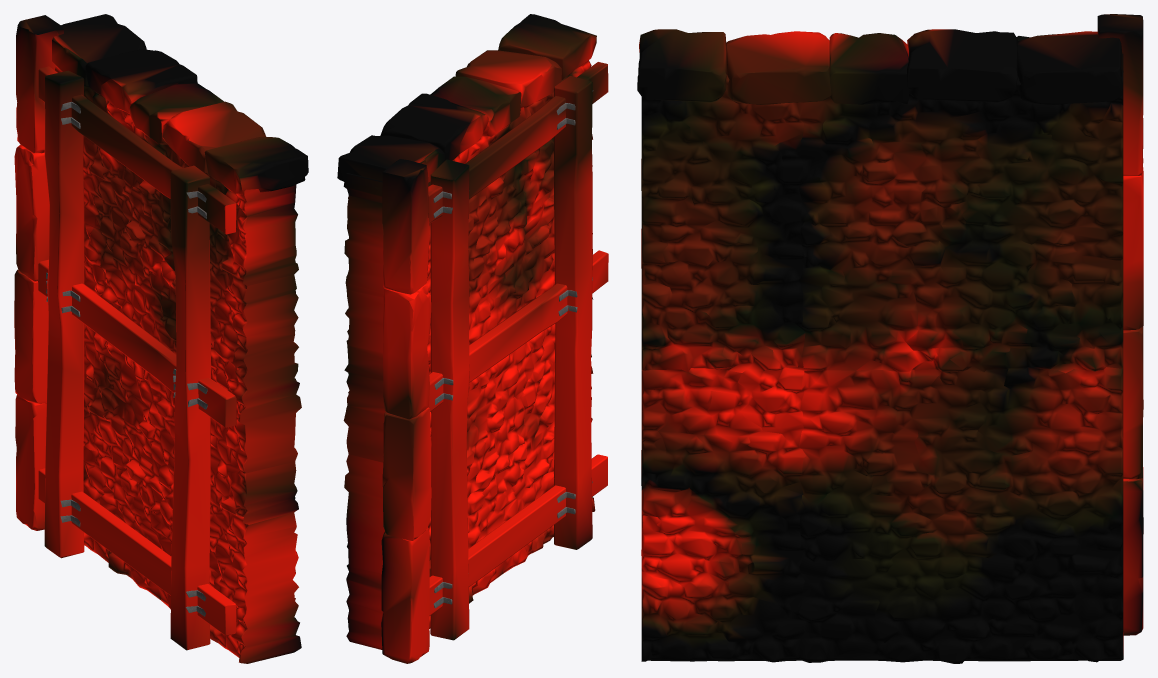
The model's file is SM_DockWall_6x8_01.fbx.
3 views of the same model, side by side, from view 1: azimuth 30°, elevation 25°; view 2: azimuth 150°, elevation 25°; view 3: azimuth 270°, elevation 25° (orthographic). The views are drawn at different scales.
Parts seen in each view (by area): view 1: SM_DockWall_6x8_01_LOD0; view 2: SM_DockWall_6x8_01_LOD0; view 3: SM_DockWall_6x8_01_LOD0.
Boxes of the visible parts, left/top/right/bottom form: SM_DockWall_6x8_01_LOD0: left=14, top=14, right=308, bottom=663; SM_DockWall_6x8_01_LOD0: left=337, top=14, right=608, bottom=663; SM_DockWall_6x8_01_LOD0: left=637, top=14, right=1143, bottom=663.
Bounding box in the file's own units: 165 × 631 × 832.
